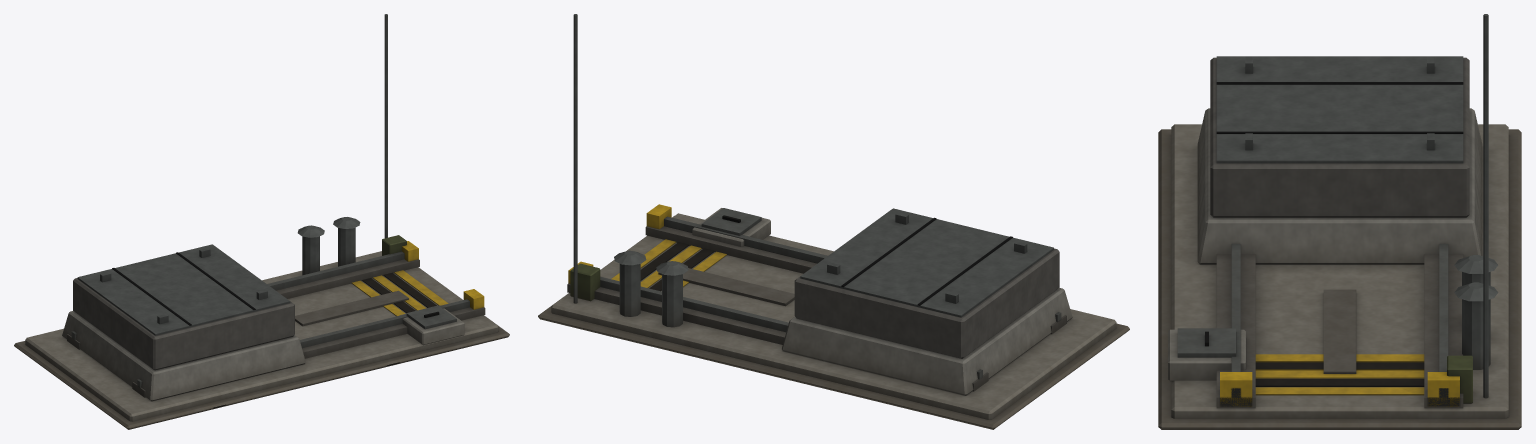
Rendered from mslo.glb.
3 views of the same model, side by side, from view 1: azimuth 30°, elevation 25°; view 2: azimuth 150°, elevation 25°; view 3: azimuth 270°, elevation 25° (orthographic). The views are drawn at different scales.
Parts seen in each view (by area): view 1: hull; view 2: hull; view 3: hull.
Part boxes in pixels (x1,y1,x2,y2): hull: (14,14,509,429); hull: (538,14,1129,429); hull: (1158,14,1521,429).
Size of the model in its own units: 10.8 by 6.8 by 5.6.
Materials: 1 (1 with a texture image).
